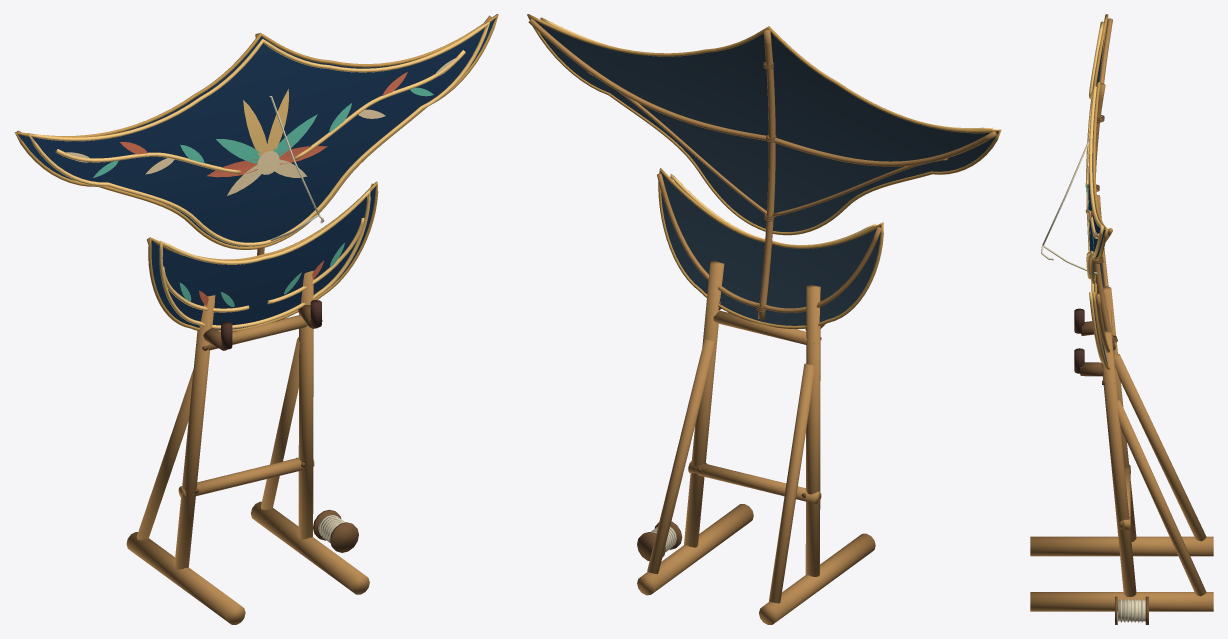
File: wau-bulan-workshop-display.glb
3 renders of one model, left to right at view 1: azimuth 30°, elevation 25°; view 2: azimuth 150°, elevation 25°; view 3: azimuth 270°, elevation 25°, orthographic. The views are drawn at different scales.
Visible parts, largest first — view 1: WAU_BOWED_PAPER_SAIL, WORKSHOP_BAMBOO_STAND, WAU_ORIGINAL_LAYERED_APPLIQUE, WAU_CRESCENT_PAPER_TAIL, WAU_PAPER_EDGE_PIPING, WORKSHOP_COTTON_REEL; view 2: WAU_BOWED_PAPER_SAIL, WORKSHOP_BAMBOO_STAND, WAU_CRESCENT_PAPER_TAIL, WAU_PAPER_EDGE_PIPING, WAU_CONTINUOUS_BOWED_CROSS_SPAR, WAU_LONGITUDINAL_BAMBOO_SPINE, WAU_CRESCENT_BOW_SPAR, WAU_ORIGINAL_LAYERED_APPLIQUE, WORKSHOP_COTTON_REEL, Split bamboo wing brace.001, Split bamboo wing brace; view 3: WORKSHOP_BAMBOO_STAND, WAU_ORIGINAL_LAYERED_APPLIQUE, WAU_PAPER_EDGE_PIPING, WAU_LONGITUDINAL_BAMBOO_SPINE, WORKSHOP_COTTON_REEL, WAU_CRESCENT_BOW_SPAR, WAU_BOWED_PAPER_SAIL, WAU_CONTINUOUS_BOWED_CROSS_SPAR, WAU_BRIDLE_UPPER.
Part boxes in pixels (box(x1,y1,x2,y2)): WAU_BOWED_PAPER_SAIL: box(18, 18, 495, 246); WORKSHOP_BAMBOO_STAND: box(126, 270, 369, 624); WAU_ORIGINAL_LAYERED_APPLIQUE: box(28, 21, 489, 329); WAU_CRESCENT_PAPER_TAIL: box(151, 187, 375, 330); WAU_PAPER_EDGE_PIPING: box(14, 14, 498, 332); WORKSHOP_COTTON_REEL: box(313, 509, 358, 552); WAU_BOWED_PAPER_SAIL: box(530, 18, 998, 232); WORKSHOP_BAMBOO_STAND: box(637, 261, 875, 624); WAU_CRESCENT_PAPER_TAIL: box(661, 172, 880, 325); WAU_PAPER_EDGE_PIPING: box(527, 14, 1001, 329); WAU_CONTINUOUS_BOWED_CROSS_SPAR: box(528, 18, 996, 166); WAU_LONGITUDINAL_BAMBOO_SPINE: box(758, 29, 775, 319); WAU_CRESCENT_BOW_SPAR: box(657, 173, 881, 312); WAU_ORIGINAL_LAYERED_APPLIQUE: box(540, 17, 993, 245); WORKSHOP_COTTON_REEL: box(637, 521, 682, 561); Split bamboo wing brace.001: box(587, 72, 766, 214); Split bamboo wing brace: box(772, 158, 947, 216); WORKSHOP_BAMBOO_STAND: box(1030, 286, 1213, 611); WAU_ORIGINAL_LAYERED_APPLIQUE: box(1085, 21, 1103, 363); WAU_PAPER_EDGE_PIPING: box(1089, 14, 1109, 369); WAU_LONGITUDINAL_BAMBOO_SPINE: box(1093, 83, 1115, 350); WORKSHOP_COTTON_REEL: box(1115, 596, 1148, 624); WAU_CRESCENT_BOW_SPAR: box(1095, 195, 1112, 352); WAU_BOWED_PAPER_SAIL: box(1088, 41, 1104, 278); WAU_CONTINUOUS_BOWED_CROSS_SPAR: box(1096, 18, 1112, 241); WAU_BRIDLE_UPPER: box(1042, 140, 1089, 245).
Size of the model in its own units: 1.76 by 1.91 by 0.633.
